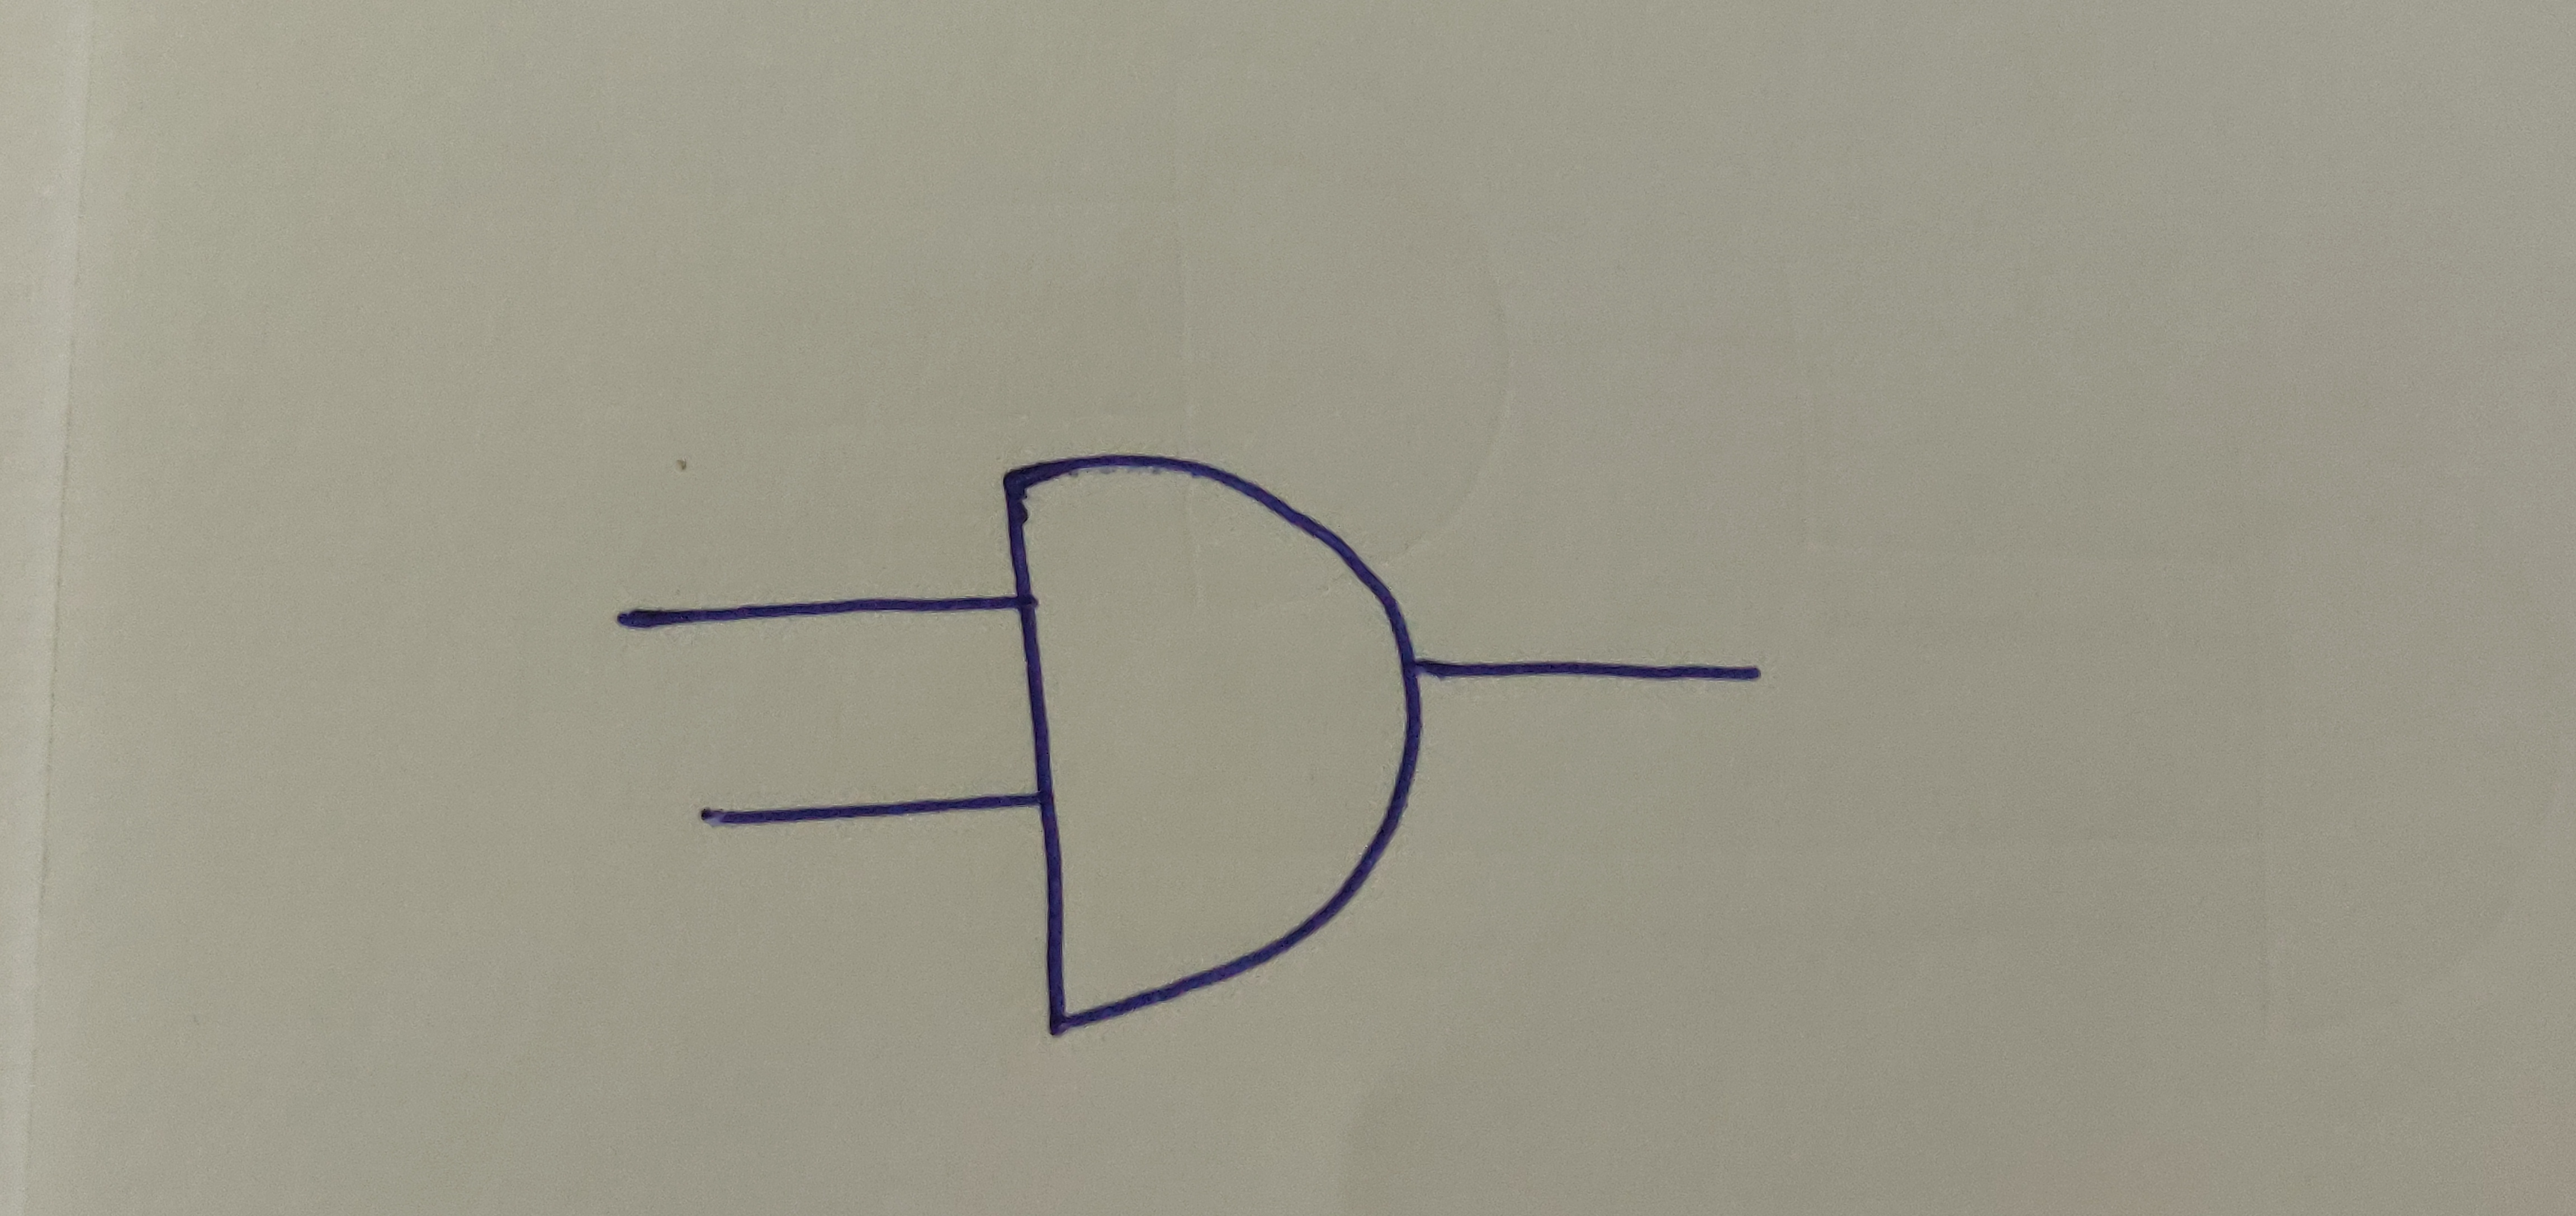and: (991, 450, 1426, 1032)
